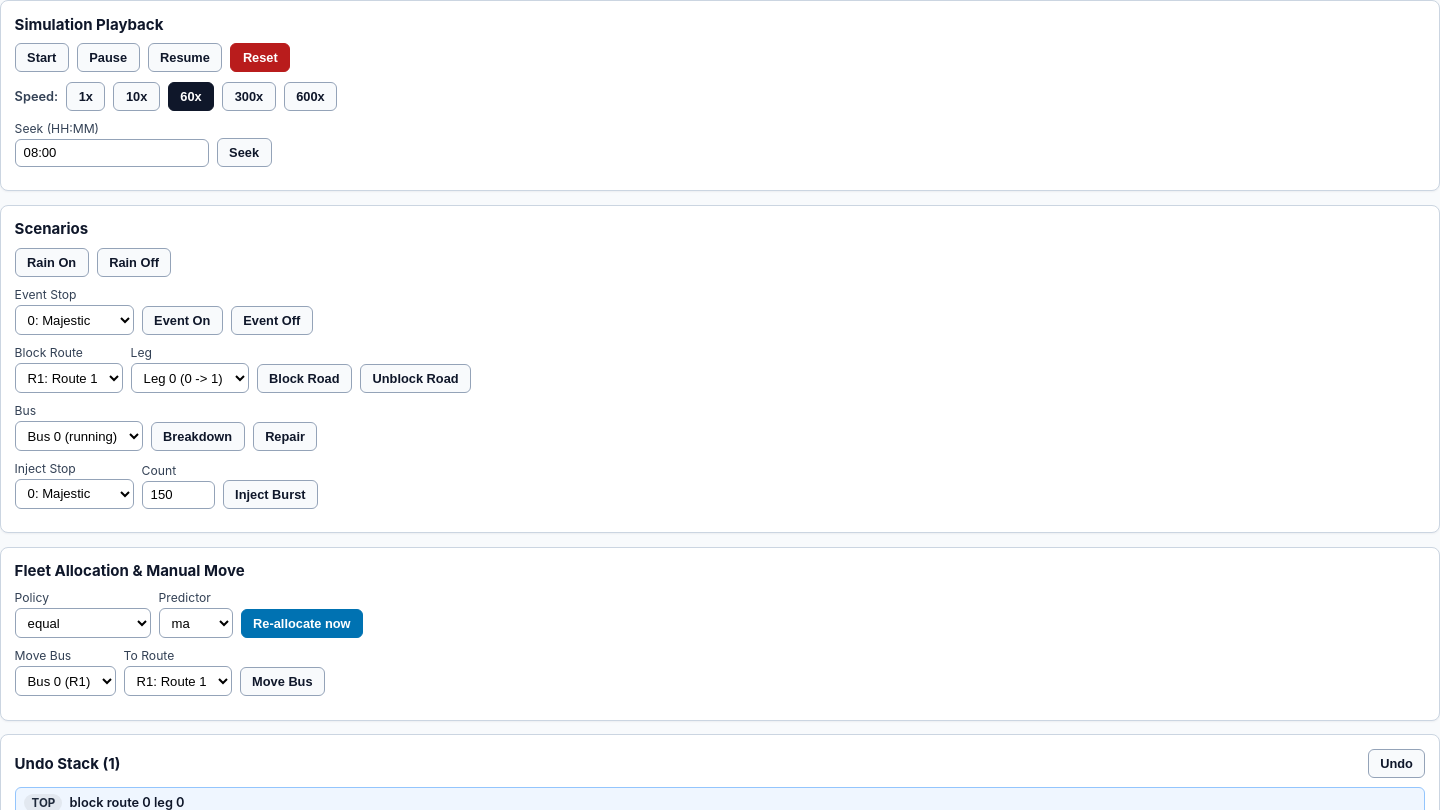
Test: ControlPanel › asks for confirmation before Reset and does not post when cancelled
Later steps or results of the test are not shown.
What coordinates should you click on to do the following:
click the button "Reset"
I would click on:
 (260, 58)
Its box is [230, 43, 290, 72].
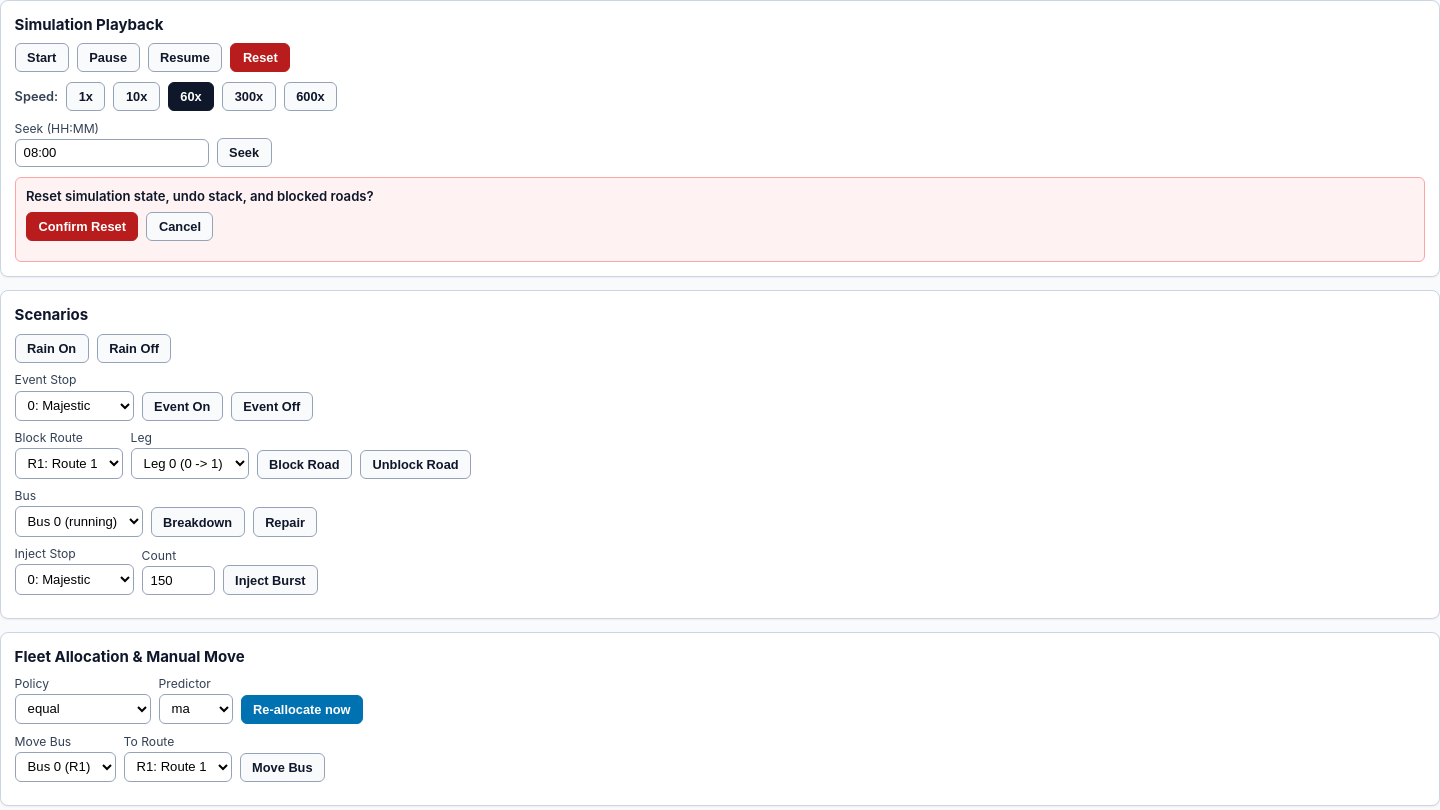
Check: the dialog named "Confirm simulation reset" is shown, box [15, 177, 1425, 262]
What coordinates should you click on to do the following:
click the button "Cancel"
I would click on:
 (180, 227)
Its box is [146, 212, 214, 241].
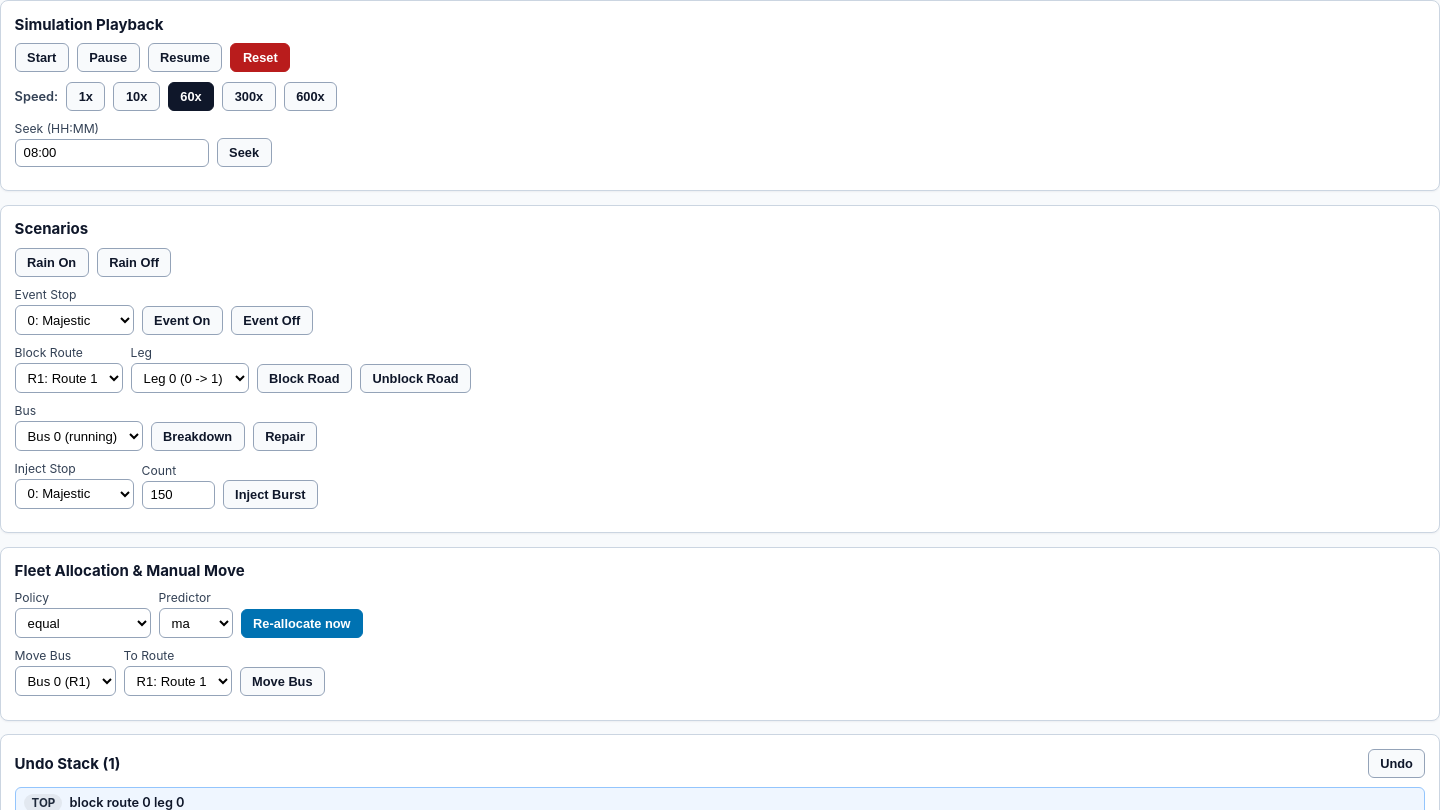
Check: the dialog is gone
